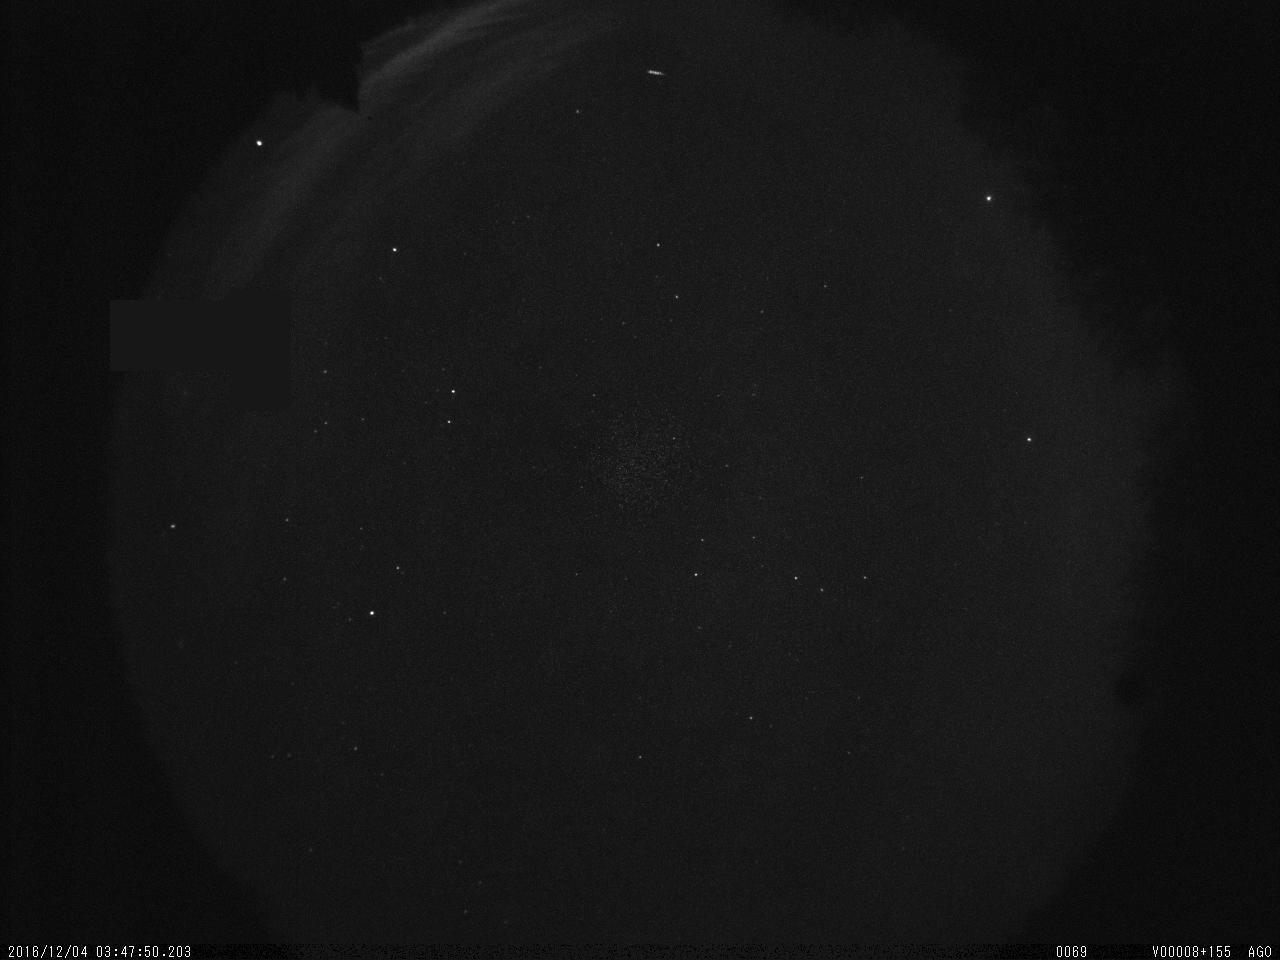meteor: (640, 59, 670, 92)
